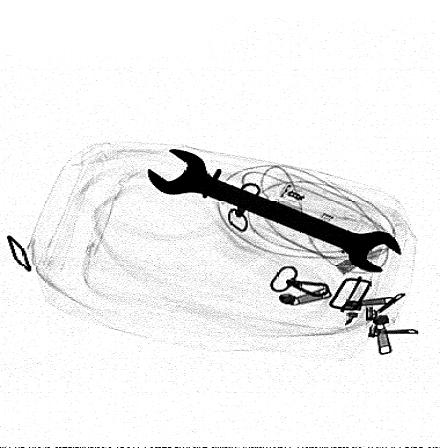Wrench: (146, 148, 404, 273)
